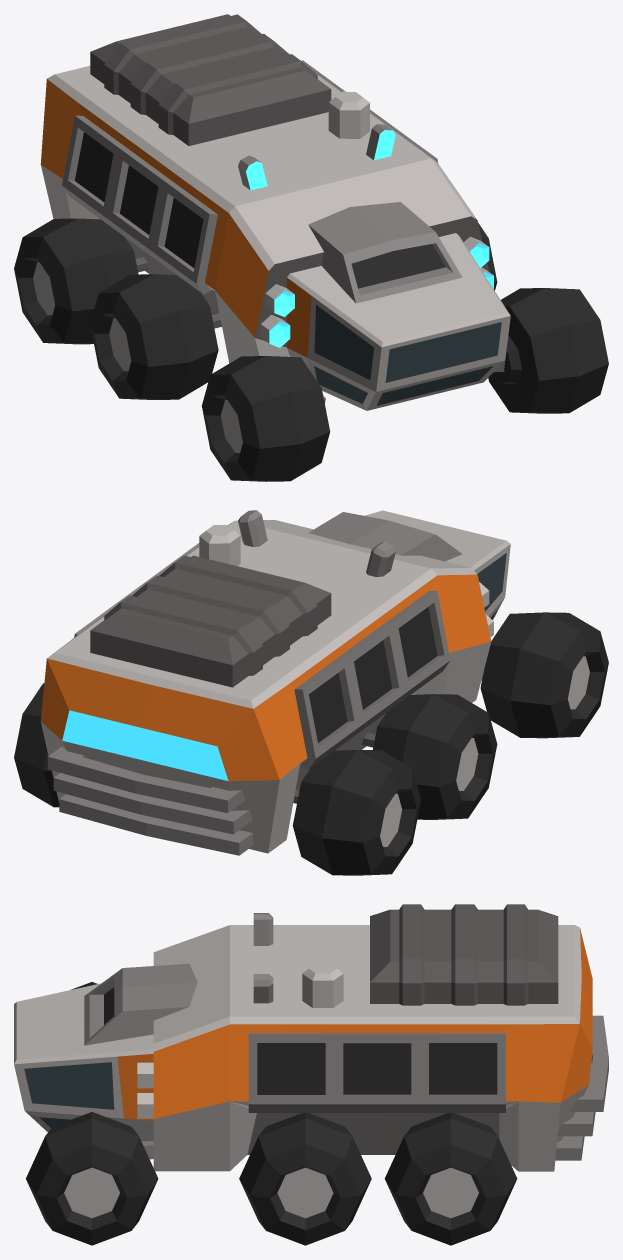
File: scifi_scifi-ranger.fbx
The picture shows the model from 3 angles, top to bottom: view 1: azimuth 30°, elevation 25°; view 2: azimuth 150°, elevation 25°; view 3: azimuth 270°, elevation 25°; orthographic projection. The views are drawn at different scales.
Visible parts, largest first — view 1: scifi_ranger_base, scifi_ranger_wheel_FR, scifi_ranger_wheel_MR, scifi_ranger_wheel_FL, scifi_ranger_wheel_BR; view 2: scifi_ranger_base, scifi_ranger_wheel_FR, scifi_ranger_wheel_BR, scifi_ranger_wheel_MR, scifi_ranger_wheel_BL; view 3: scifi_ranger_base, scifi_ranger_wheel_FL, scifi_ranger_wheel_ML, scifi_ranger_wheel_BL.
Boxes of the visible parts, x1,y1,x2,y2 form: scifi_ranger_base: [40, 14, 510, 410]; scifi_ranger_wheel_FR: [202, 356, 330, 481]; scifi_ranger_wheel_MR: [90, 274, 218, 399]; scifi_ranger_wheel_FL: [488, 288, 608, 413]; scifi_ranger_wheel_BR: [14, 218, 138, 344]; scifi_ranger_base: [40, 510, 510, 855]; scifi_ranger_wheel_FR: [480, 612, 608, 738]; scifi_ranger_wheel_BR: [292, 750, 420, 875]; scifi_ranger_wheel_MR: [373, 694, 497, 819]; scifi_ranger_wheel_BL: [14, 683, 59, 807]; scifi_ranger_base: [14, 904, 608, 1171]; scifi_ranger_wheel_FL: [26, 1112, 158, 1245]; scifi_ranger_wheel_ML: [239, 1113, 371, 1245]; scifi_ranger_wheel_BL: [384, 1113, 517, 1245].
Size of the model in its own units: 134 by 89.86 by 200.
